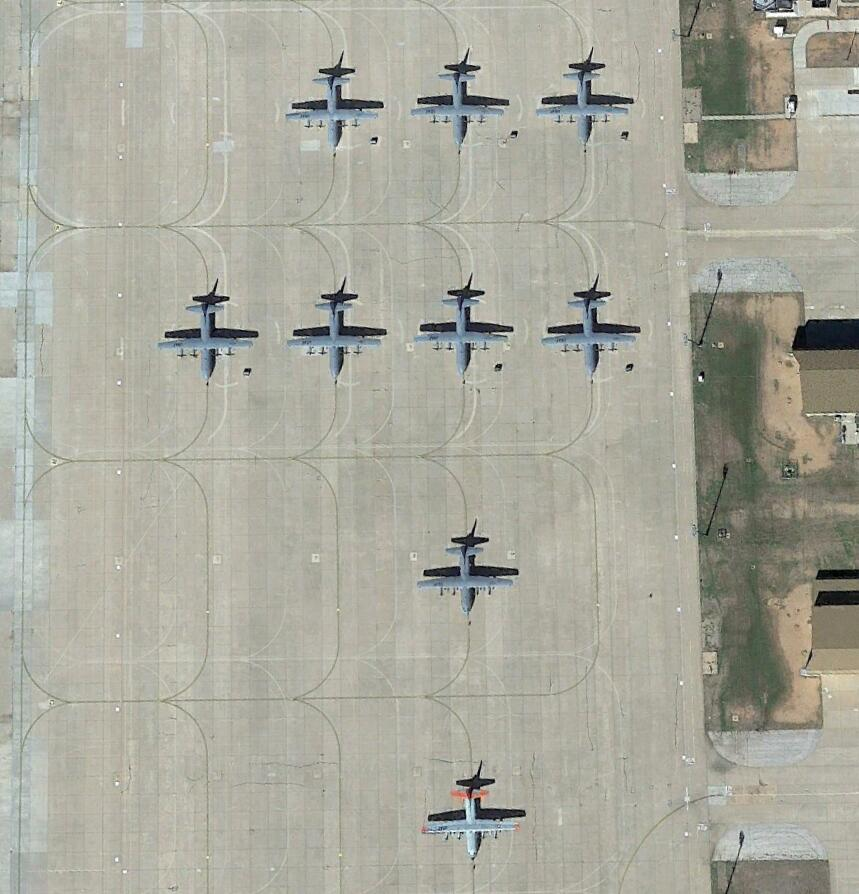A2: (280, 50, 393, 155), (415, 761, 531, 861), (155, 280, 263, 386), (541, 272, 644, 383), (408, 273, 516, 376), (417, 518, 524, 620), (283, 277, 388, 380), (537, 49, 637, 147), (410, 54, 511, 150)
